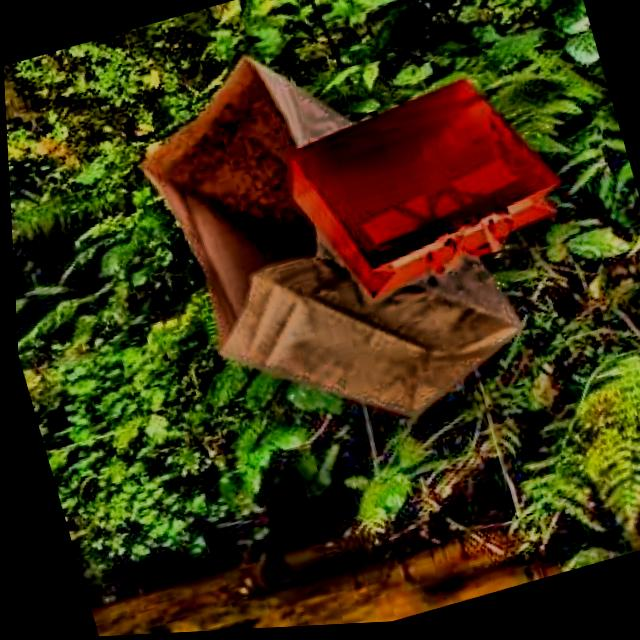Paper-bag: (242, 50, 580, 330)
